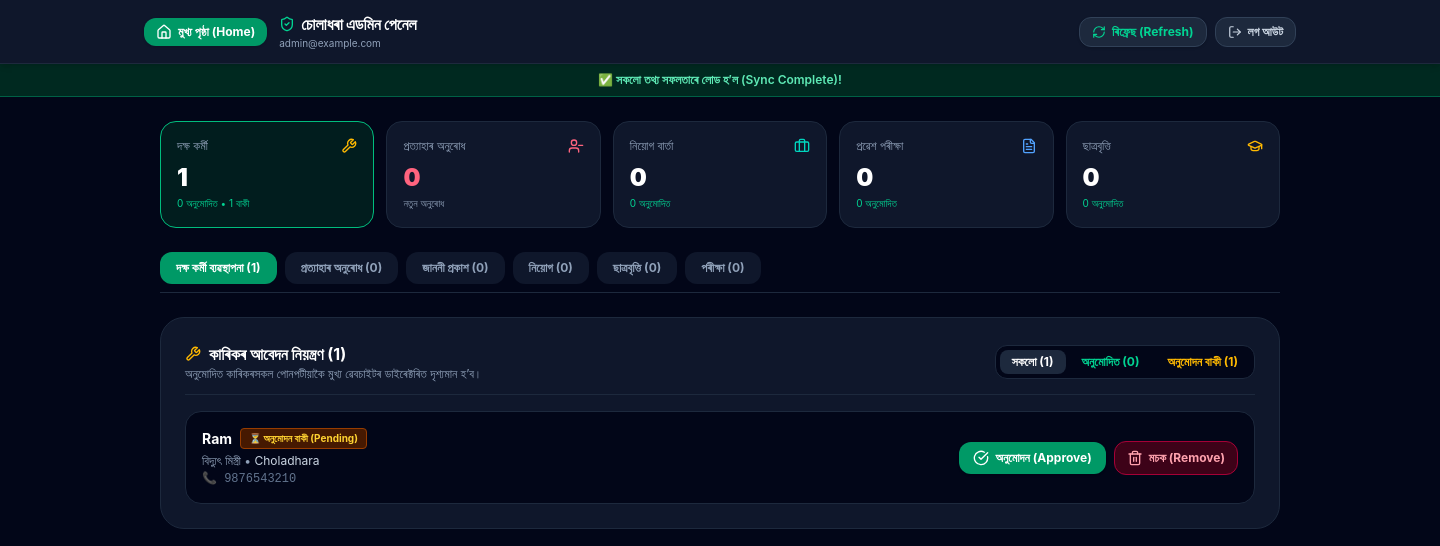
it: Admin › shows database errors from actions
This screenshot has width=1440, height=546.
Expected: the text "✅ সকলো তথ্য সফলতাৰে লোড হ’ল (Sync Complete)!" is shown, [0, 64, 1439, 97]
Click the button "অনুমোদন (Approve)": (1033, 458) [959, 442, 1106, 474]
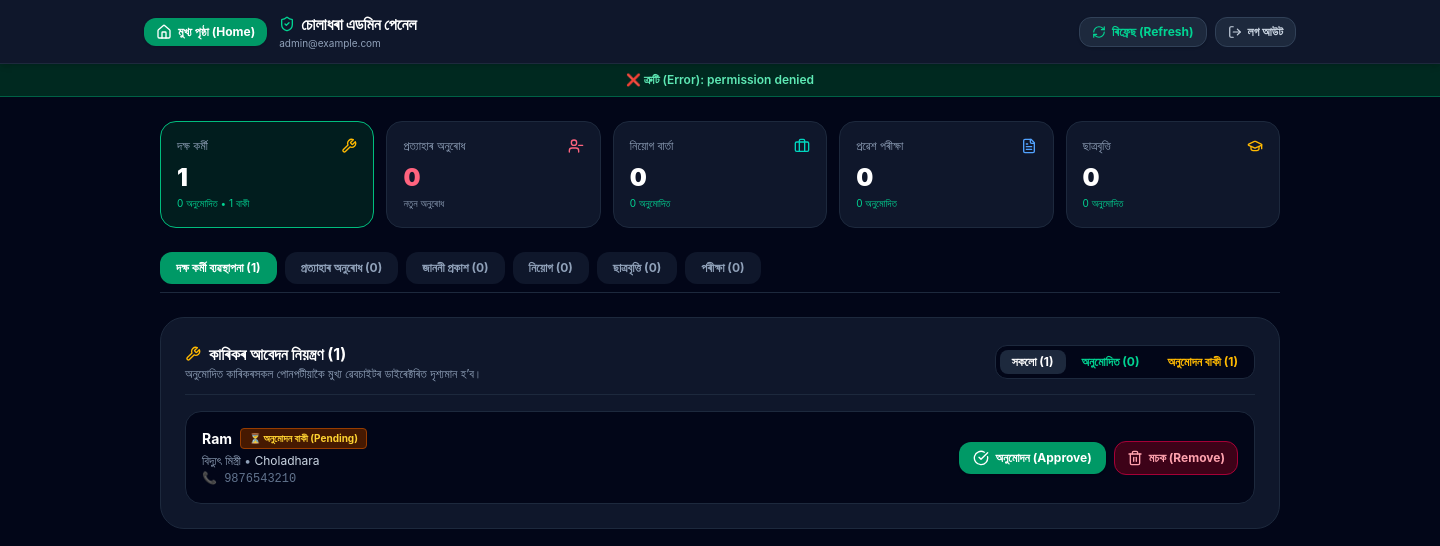
Now the text "❌ ত্রুটি (Error): permission denied" is shown, box [0, 64, 1439, 97]
